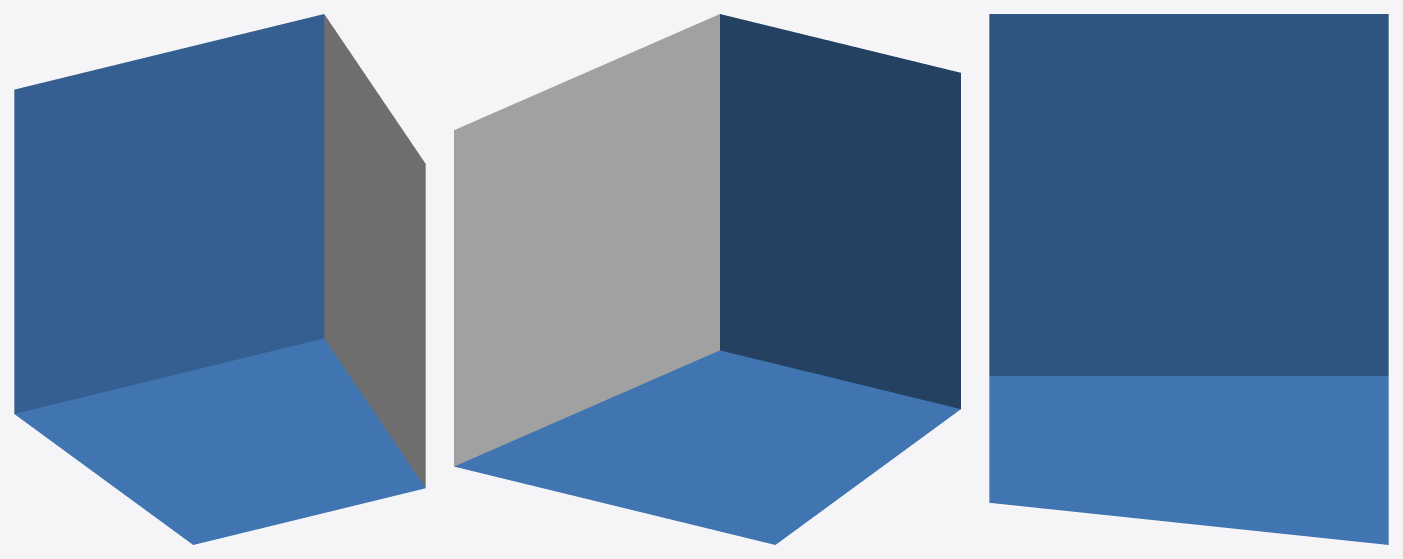
The model's file is r3c4_border_blue.gltf.
3 views of the same model, side by side, from view 1: azimuth 30°, elevation 25°; view 2: azimuth 150°, elevation 25°; view 3: azimuth 270°, elevation 25° (orthographic). The views are drawn at different scales.
Visible parts, largest first — view 1: r3c4_border_blue; view 2: r3c4_border_blue; view 3: r3c4_border_blue.
Part boxes in pixels (x1,y1,x2,y2): r3c4_border_blue: (14, 14, 425, 544); r3c4_border_blue: (454, 14, 960, 544); r3c4_border_blue: (989, 14, 1388, 544).
Bounding box in the file's own units: 2.1 × 2.1 × 2.1.
1 material, 1 textured.
